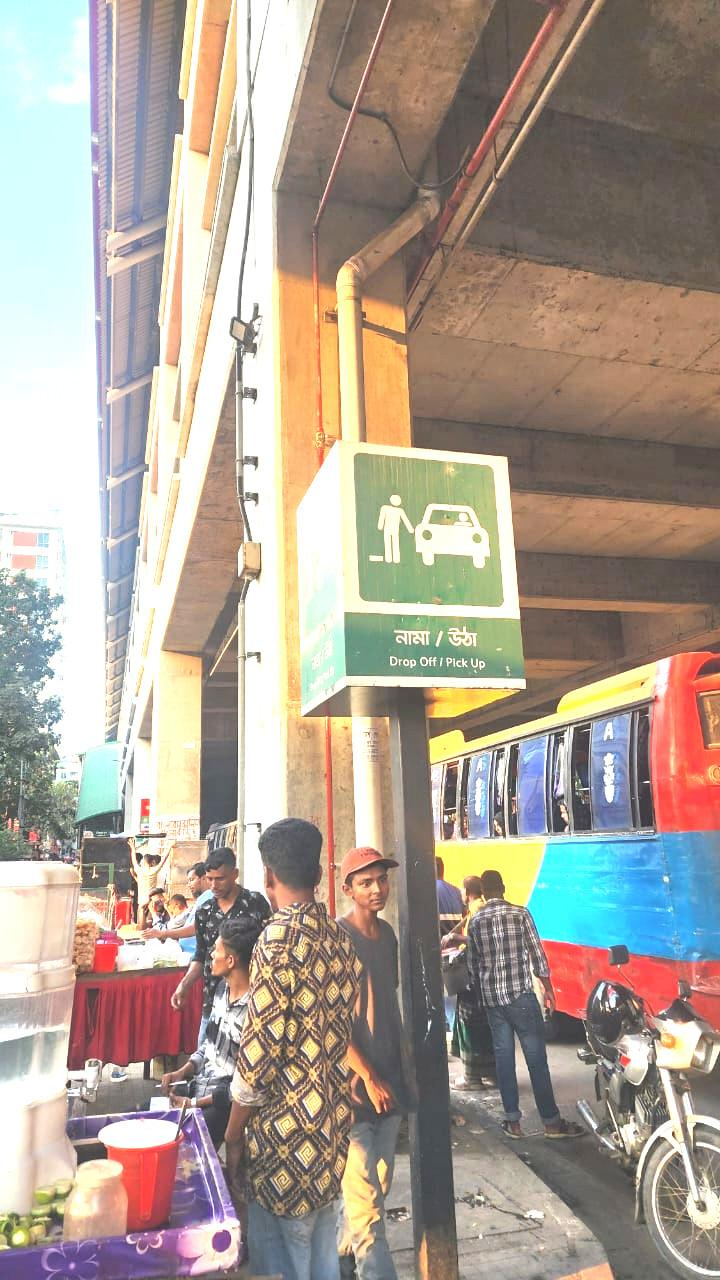Metro Dorp Up Pick up: (292, 435, 526, 681)
